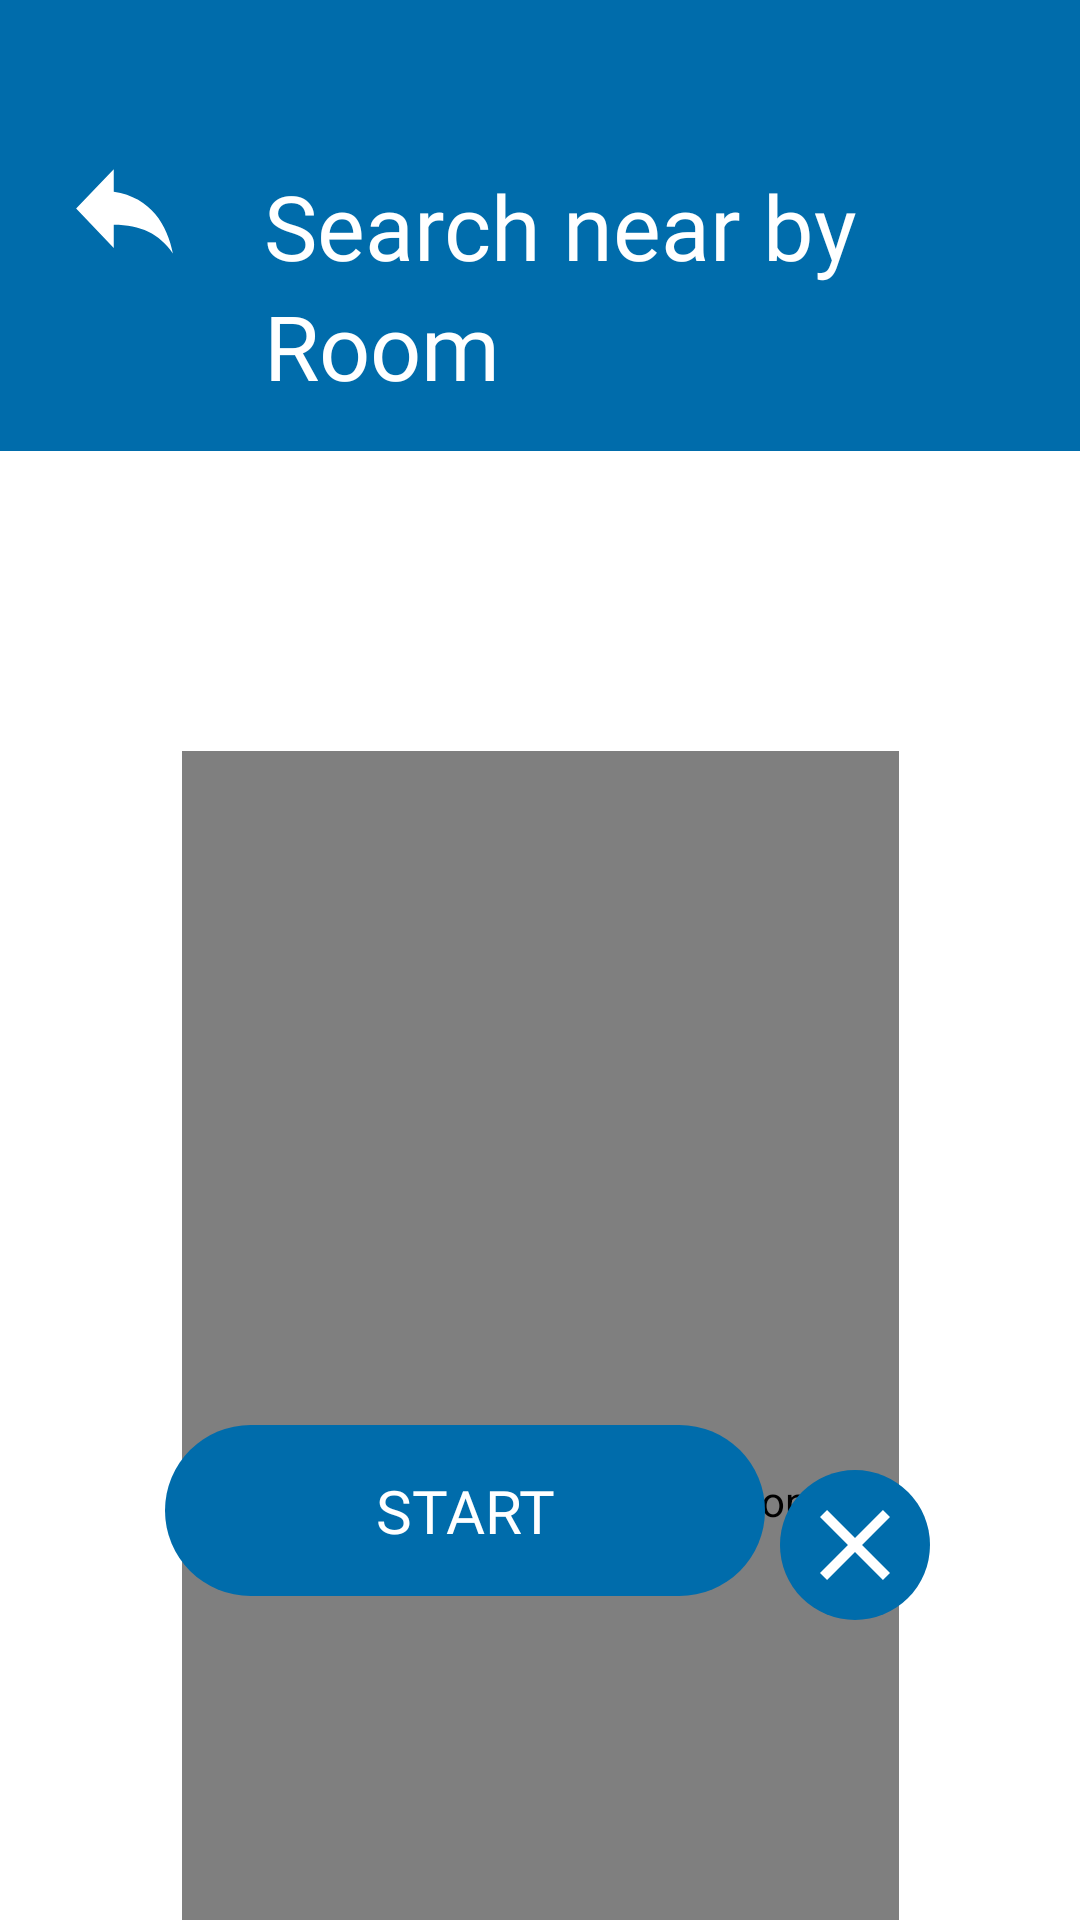

Screen size 1080 × 1920. Icon name, then its box in pixels as box(x1, y1, x2, y2):
back: box(76, 169, 173, 253)
clear: box(780, 1470, 930, 1620)
